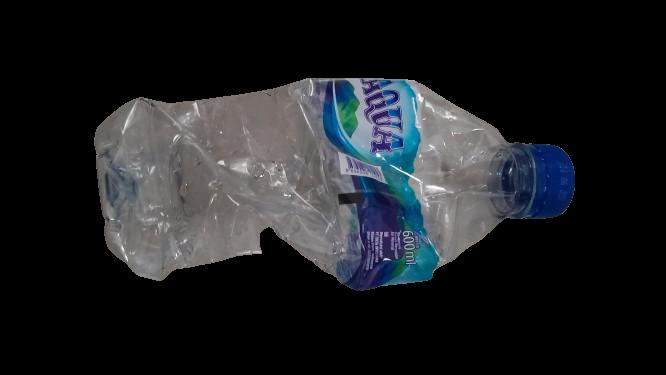Plastik: (85, 68, 584, 292)
